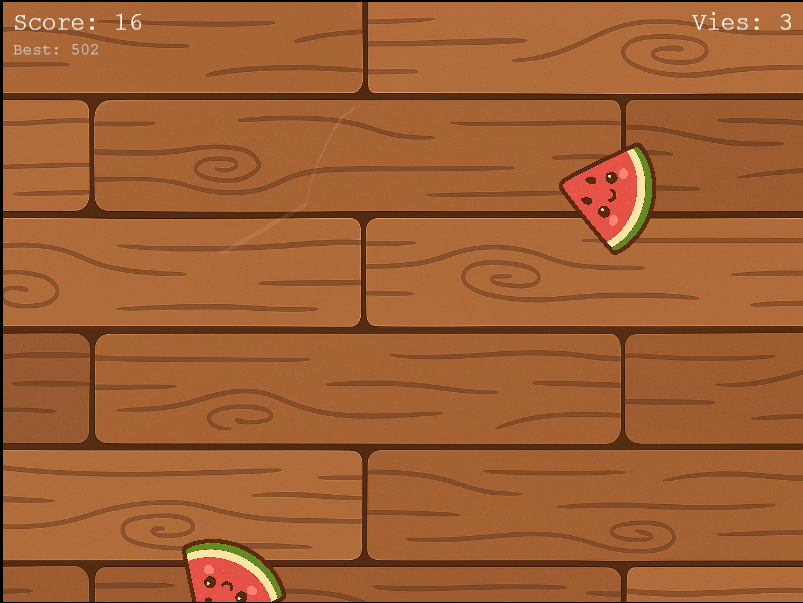fruit: (552, 137, 668, 255), (180, 531, 289, 603)
